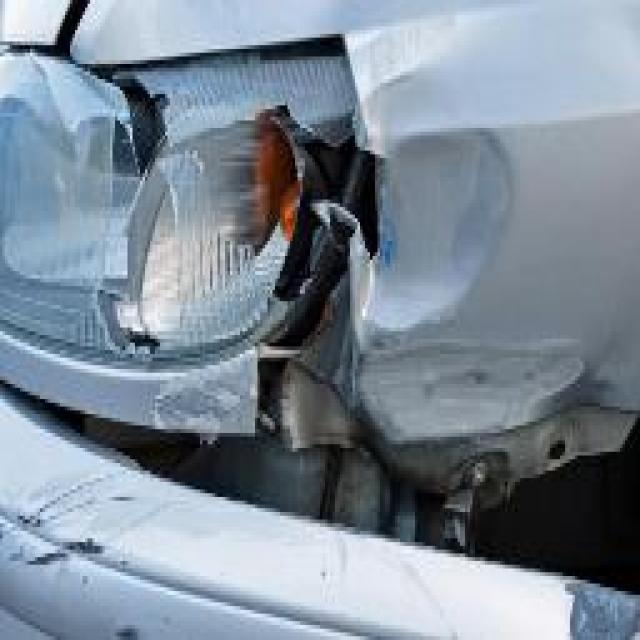Bumper: (0, 380, 335, 640)
Fender: (360, 38, 600, 414)
Light: (0, 53, 340, 373)
